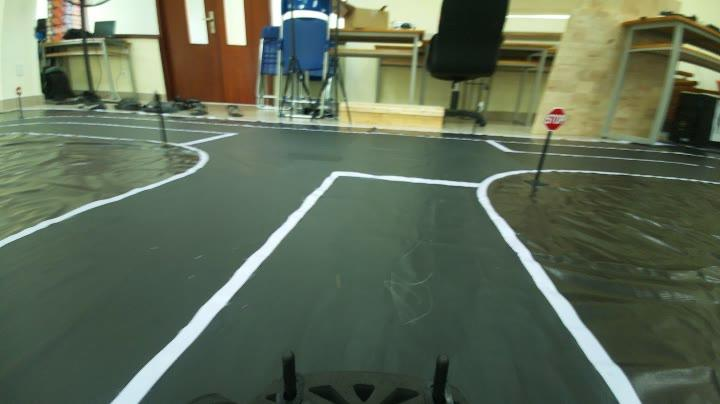stop: (540, 103, 570, 133)
